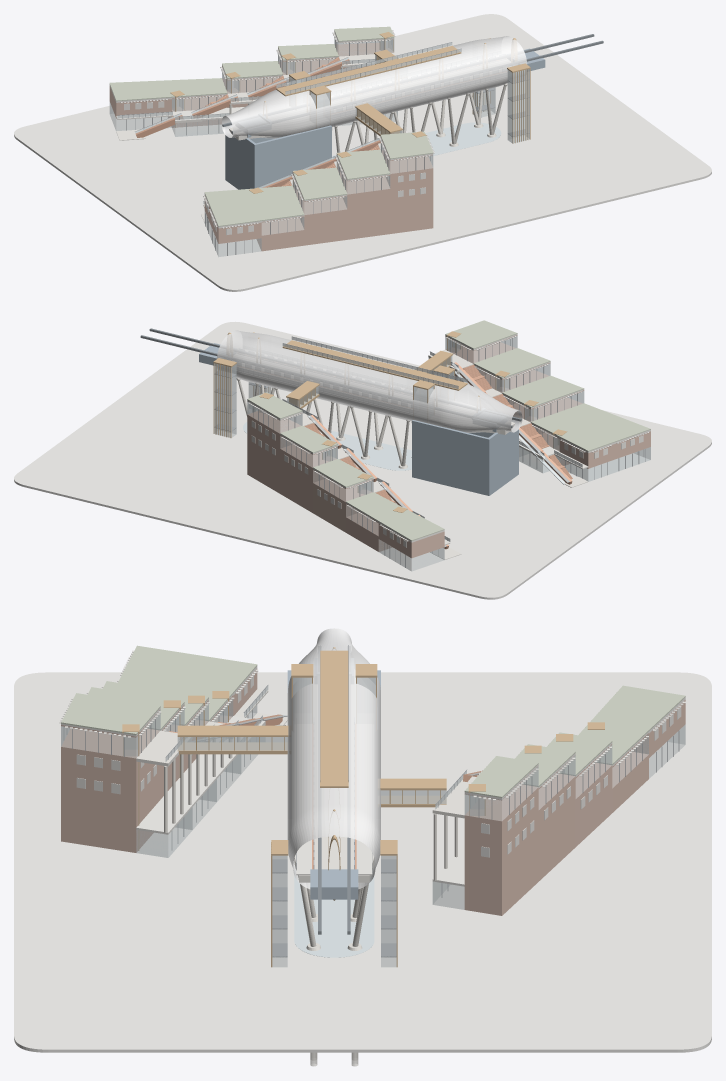
3 renders of one model, top to bottom at view 1: azimuth 30°, elevation 25°; view 2: azimuth 150°, elevation 25°; view 3: azimuth 270°, elevation 25°, orthographic. The views are drawn at different scales.
Visible parts, largest first — view 1: SITE|基地底板|0, RF|光舟網殼外皮（木格＋ETFE）|19, G|紅磚外牆 2|15, G|纜車系統構件|8, G|玻璃|10, L3|綠屋頂 2|17, G|紅磚外牆|15, PL|綠屋頂 2|17, G|清水混凝土|7, L3|綠屋頂|17, RF|木構|13, PL|綠屋頂|17 (+22 smaller); view 2: SITE|基地底板|0, RF|光舟網殼外皮（木格＋ETFE）|19, G|紅磚外牆|15, G|纜車系統構件|8, G|玻璃|10, G|紅磚外牆 2|15, L3|綠屋頂 2|17, G|玻璃 2|10, PL|綠屋頂 2|17, L3|綠屋頂|17, RF|木構|13, G|清水混凝土|7 (+21 smaller); view 3: SITE|基地底板|0, G|紅磚外牆|15, RF|光舟網殼外皮（木格＋ETFE）|19, G|紅磚外牆 2|15, G|玻璃|10, L3|綠屋頂 2|17, RF|木構|13, PL|玻璃|10, L3|綠屋頂|17, PL|木構|13, SITE|水面|3, PL|綠屋頂 2|17 (+21 smaller).
Part boxes in pixels (x1,y1,x2,y2): SITE|基地底板|0: [14, 14, 711, 291]; RF|光舟網殼外皮（木格＋ETFE）|19: [222, 36, 527, 138]; G|紅磚外牆 2|15: [204, 150, 433, 251]; G|纜車系統構件|8: [225, 118, 331, 189]; G|玻璃|10: [109, 39, 529, 143]; L3|綠屋頂 2|17: [204, 185, 304, 226]; G|紅磚外牆|15: [109, 42, 393, 127]; PL|綠屋頂 2|17: [336, 131, 433, 179]; G|清水混凝土|7: [332, 83, 507, 152]; L3|綠屋頂|17: [109, 78, 227, 101]; RF|木構|13: [263, 38, 516, 111]; PL|綠屋頂|17: [278, 26, 394, 60]; SITE|基地底板|0: [14, 321, 711, 599]; RF|光舟網殼外皮（木格＋ETFE）|19: [217, 330, 522, 432]; G|紅磚外牆|15: [247, 410, 444, 558]; G|纜車系統構件|8: [412, 412, 518, 495]; G|玻璃|10: [214, 363, 454, 571]; G|紅磚外牆 2|15: [445, 342, 650, 468]; L3|綠屋頂 2|17: [531, 403, 650, 451]; G|玻璃 2|10: [447, 337, 650, 484]; PL|綠屋頂 2|17: [445, 320, 550, 378]; L3|綠屋頂|17: [346, 492, 444, 540]; RF|木構|13: [227, 332, 480, 407]; G|清水混凝土|7: [236, 378, 411, 468]; SITE|基地底板|0: [14, 672, 711, 1052]; G|紅磚外牆|15: [464, 700, 685, 915]; RF|光舟網殼外皮（木格＋ETFE）|19: [287, 628, 380, 889]; G|紅磚外牆 2|15: [61, 668, 257, 852]; G|玻璃|10: [272, 677, 685, 967]; L3|綠屋頂 2|17: [118, 645, 257, 720]; RF|木構|13: [320, 647, 348, 900]; PL|玻璃|10: [177, 737, 538, 872]; L3|綠屋頂|17: [578, 685, 685, 765]; PL|木構|13: [177, 664, 541, 855]; SITE|水面|3: [294, 868, 374, 957]; PL|綠屋頂 2|17: [61, 687, 184, 734].
Bounding box in the file's own units: 156 × 50.15 × 122.
